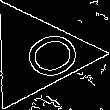O_SW: (0, 22, 75, 87)
